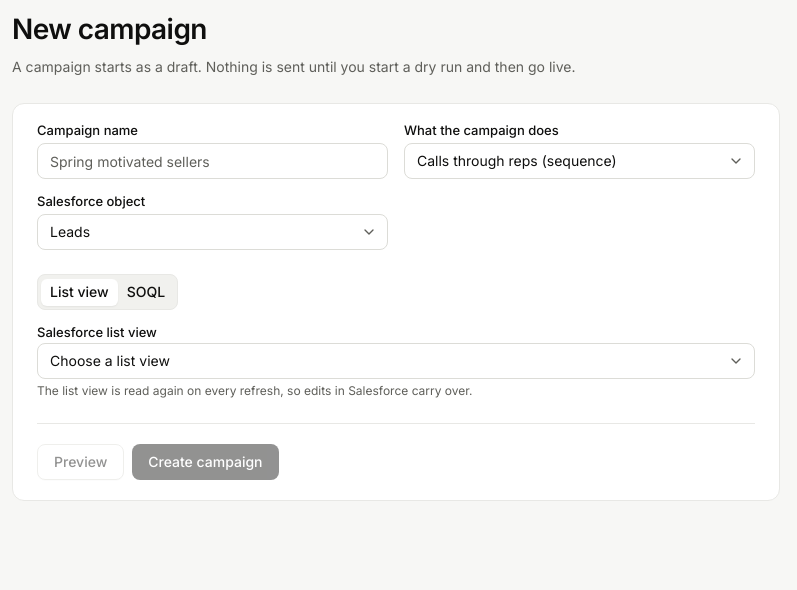
Test: CampaignBuilder › shows a 422 INVALID_SOURCE inline with the Salesforce message
This screenshot has width=797, height=590.
Click the tab "SOQL" at (146, 292), box [118, 278, 174, 306]
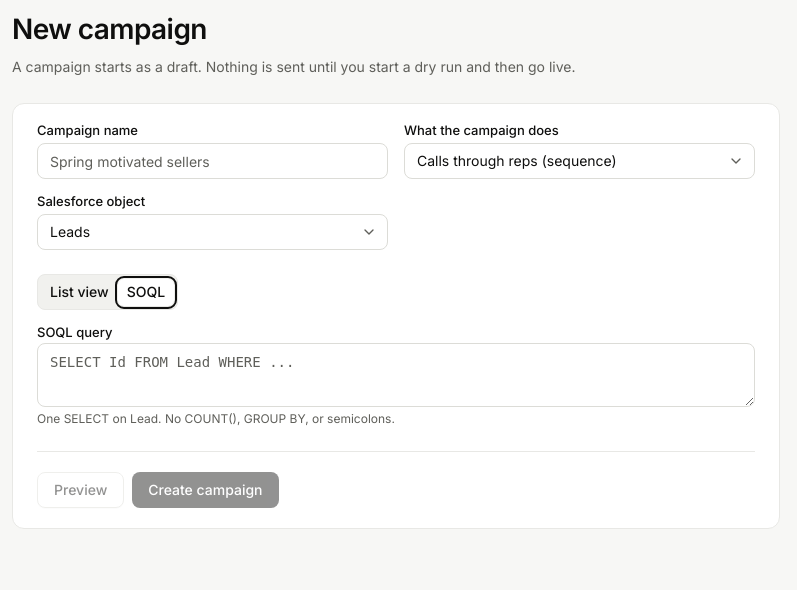
Type "SELECT Id FORM Lead WHERE Status = 'Open'" into the text box labelled "SOQL query" at (396, 375), box [37, 343, 755, 407]
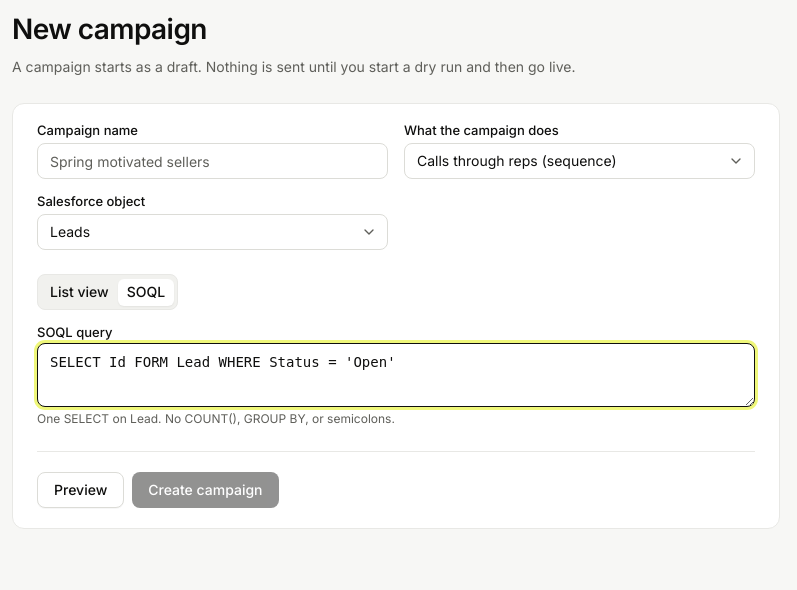
Click the button "Preview" at (81, 490), box [37, 472, 124, 508]
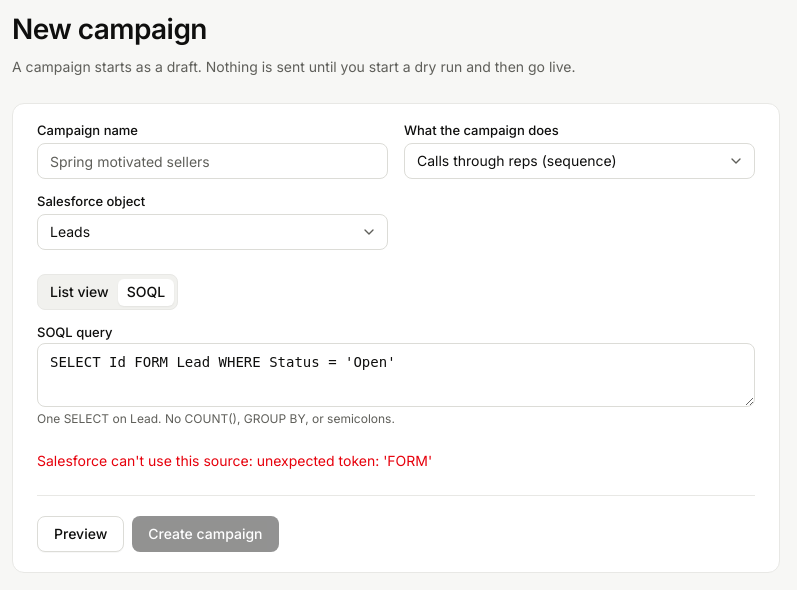
Expected: the message reads "Salesforce can't use this source: unexpected token: 'FORM'", [37, 452, 432, 469]
